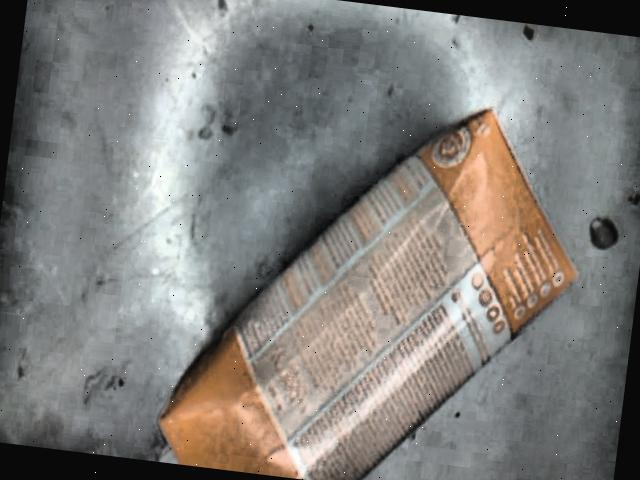Paper: (158, 110, 580, 480)
